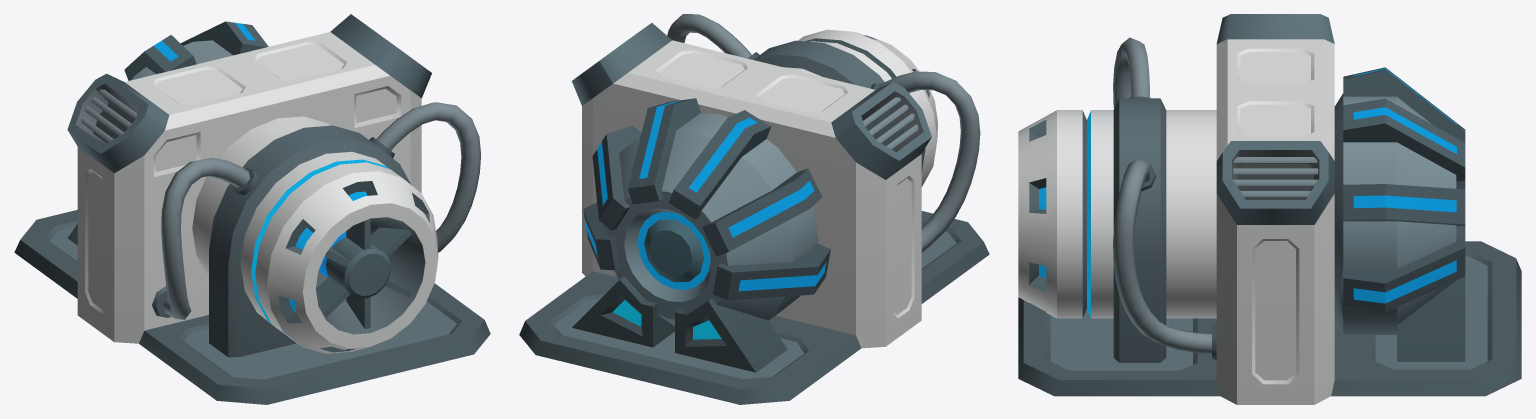
The model's file is Generator_001.glb.
3 views of the same model, side by side, from view 1: azimuth 30°, elevation 25°; view 2: azimuth 150°, elevation 25°; view 3: azimuth 270°, elevation 25° (orthographic). The views are drawn at different scales.
Visible parts, largest first — view 1: Generator_001, Generator_rotor_007; view 2: Generator_001, Generator_rotor_007; view 3: Generator_001, Generator_rotor_007.
Part boxes in pixels (x1,y1,x2,y2): Generator_001: (14,14,490,404); Generator_rotor_007: (192,116,438,353); Generator_001: (519,14,989,404); Generator_rotor_007: (784,29,937,186); Generator_001: (1018,14,1521,404); Generator_rotor_007: (1018,110,1216,318).
Size of the model in its own units: 1.89 by 1.27 by 2.33.
Materials: 2 (2 with a texture image).
